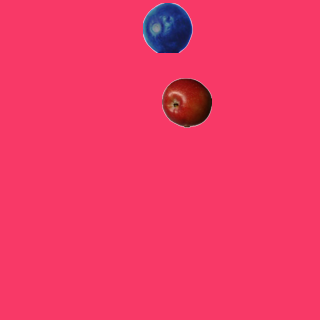Apple Braeburn: (161, 77, 211, 127)
Huckleberry: (142, 2, 192, 52)
